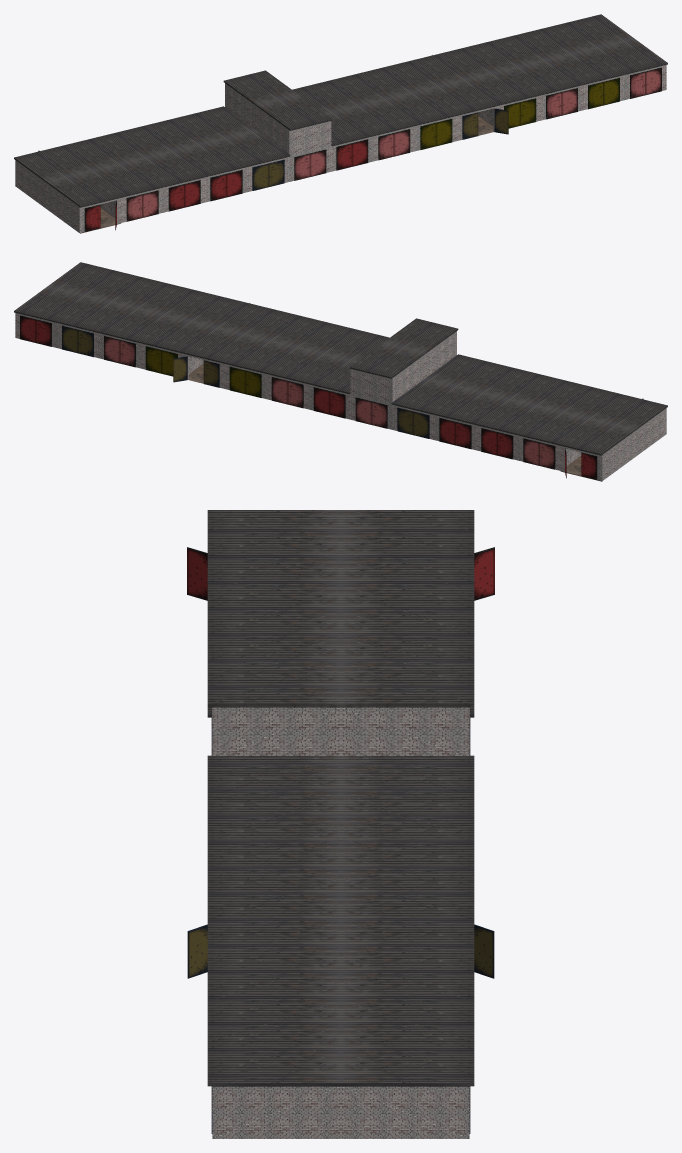
Rendered from block1.fbx.
3 renders of one model, top to bottom at view 1: azimuth 30°, elevation 25°; view 2: azimuth 150°, elevation 25°; view 3: azimuth 270°, elevation 25°, orthographic. The views are drawn at different scales.
Visible parts, largest first — view 1: Cube.001, Cube.016, Cube.027; view 2: Cube.001, Cube.016, Cube.027, Cube.010, Cube.017; view 3: Cube.001, Cube.016, Cube.028.
Boxes of the visible parts, x1,y1,x2,y2 form: Cube.001: [47, 14, 667, 233]; Cube.016: [14, 137, 130, 182]; Cube.027: [15, 160, 47, 209]; Cube.001: [14, 262, 667, 460]; Cube.016: [517, 409, 634, 455]; Cube.027: [602, 431, 634, 480]; Cube.010: [560, 446, 602, 481]; Cube.017: [523, 438, 555, 469]; Cube.001: [187, 510, 494, 1138]; Cube.016: [341, 510, 474, 591]; Cube.028: [474, 547, 494, 600].
Size of the model in its own units: 7181 by 632 by 1630.
